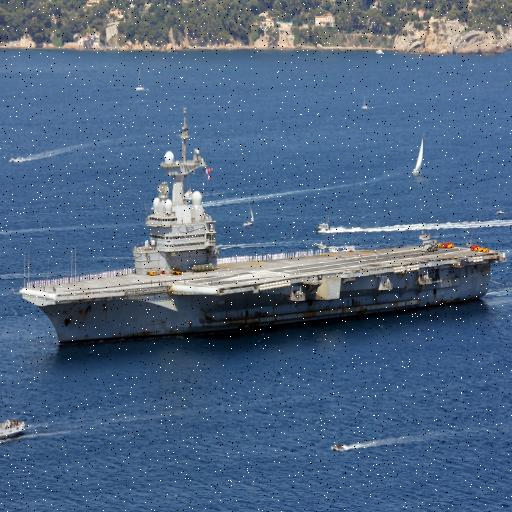Portanaves: (17, 97, 507, 356)
